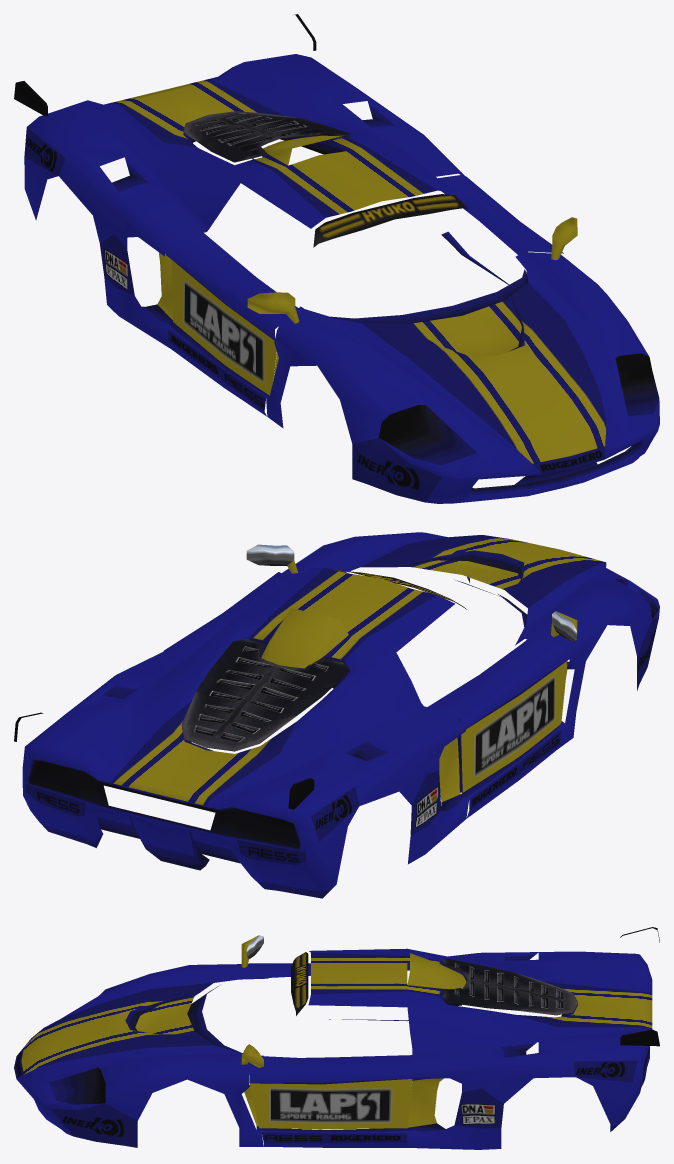
Rendered from car-SUPR_Car8.glb.
3 renders of one model, top to bottom at view 1: azimuth 30°, elevation 25°; view 2: azimuth 150°, elevation 25°; view 3: azimuth 270°, elevation 25°, orthographic. The views are drawn at different scales.
Visible parts, largest first — view 1: SUPR_Car8; view 2: SUPR_Car8; view 3: SUPR_Car8.
Part boxes in pixels (box(x1,y1,x2,y2)): SUPR_Car8: box(14, 14, 659, 503); SUPR_Car8: box(14, 532, 659, 898); SUPR_Car8: box(14, 927, 659, 1149).
Size of the model in its own units: 2.16 by 1.08 by 4.78.
Materials: 5 (5 with a texture image).
